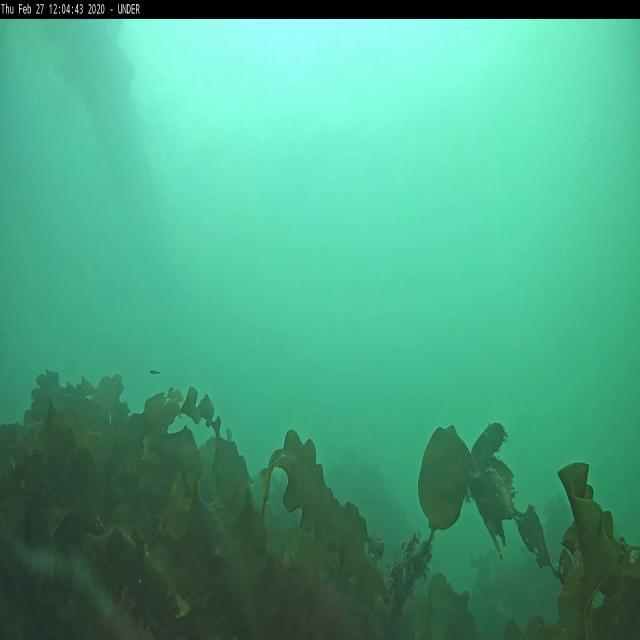fish: (149, 365, 162, 378)
